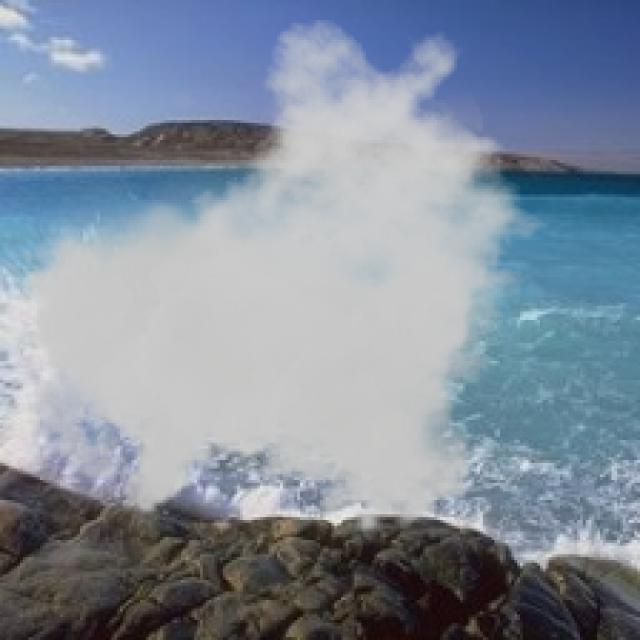smoke: (20, 17, 566, 537)
